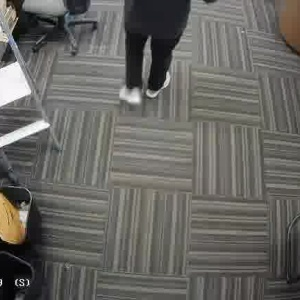person: (109, 1, 203, 113)
